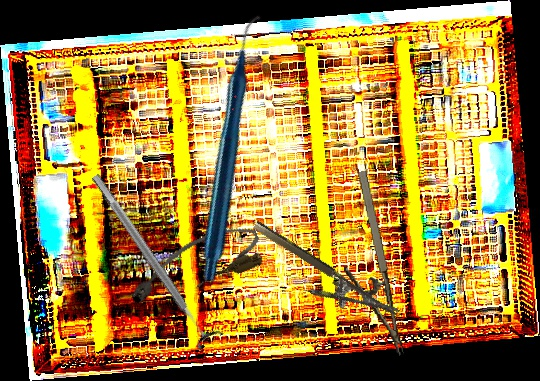Cannula: (121, 218, 268, 313)
Fixation Ring: (82, 166, 225, 352)
Handpiece: (96, 11, 373, 287)
Needle Holder: (240, 218, 400, 340), (328, 169, 404, 363)
